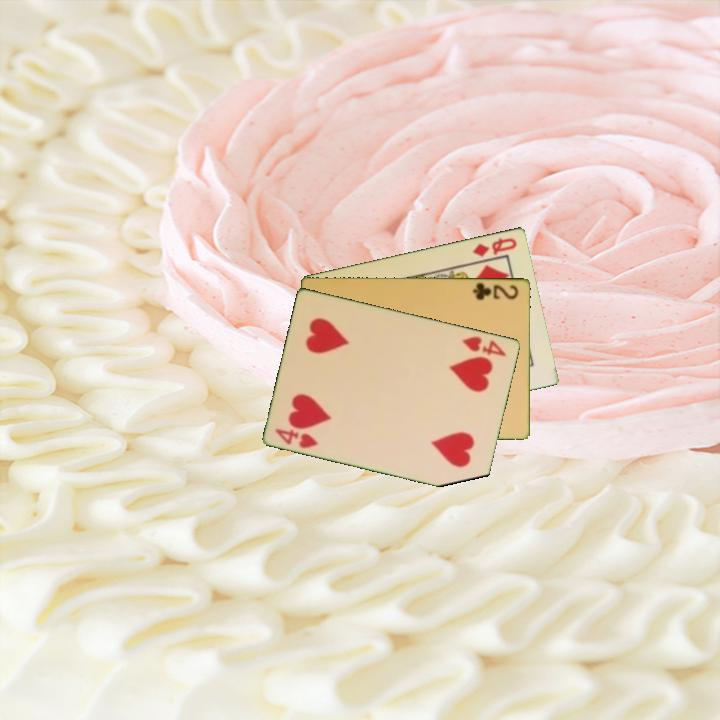2c: (469, 279, 522, 302)
4h: (459, 332, 509, 359), (272, 425, 321, 451)
Qd: (469, 234, 520, 259)
